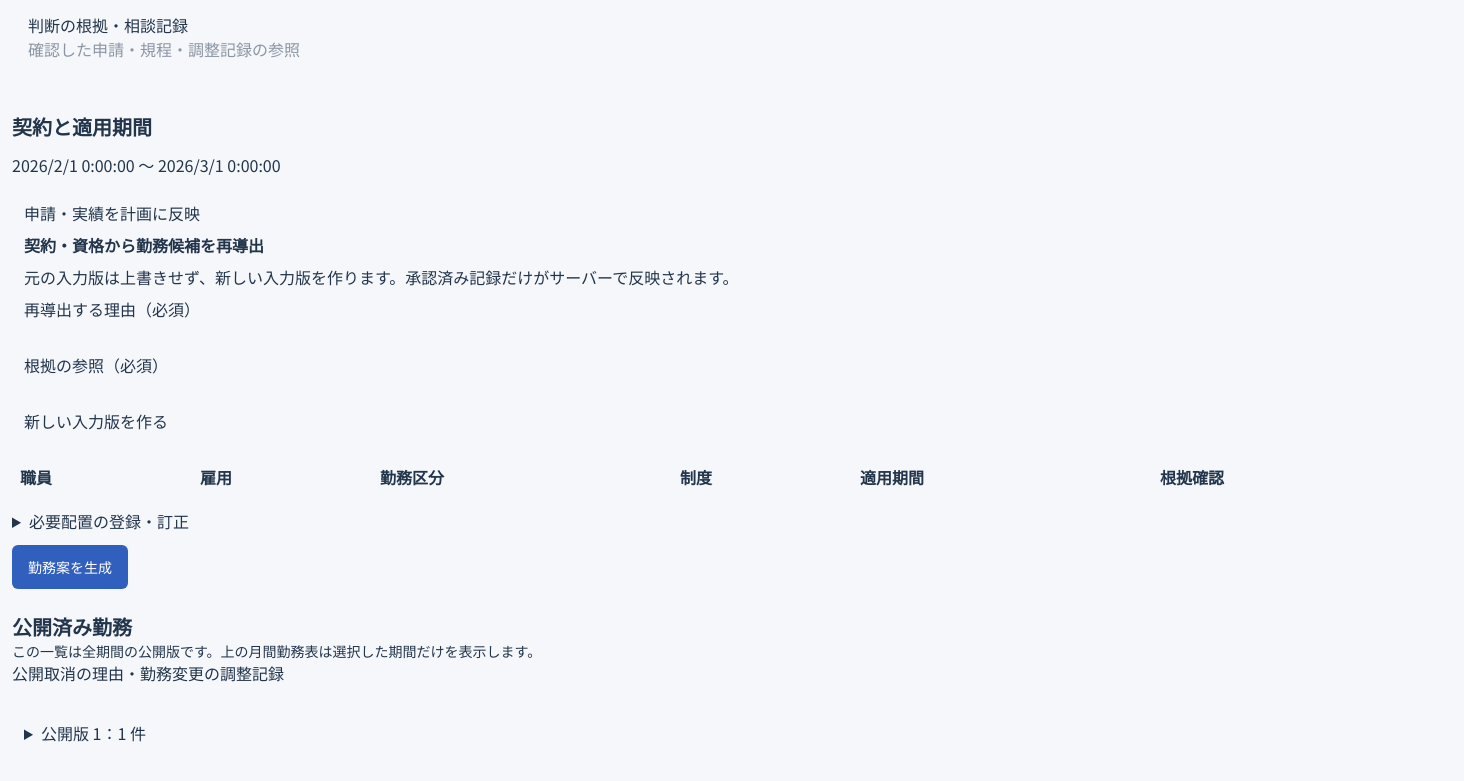
it: draft keeps another period fixed and marks a reused candidate ID as added
(page scrolled)
Click the button "勤務案を生成": (70, 567) [12,545,128,589]
(page scrolled)
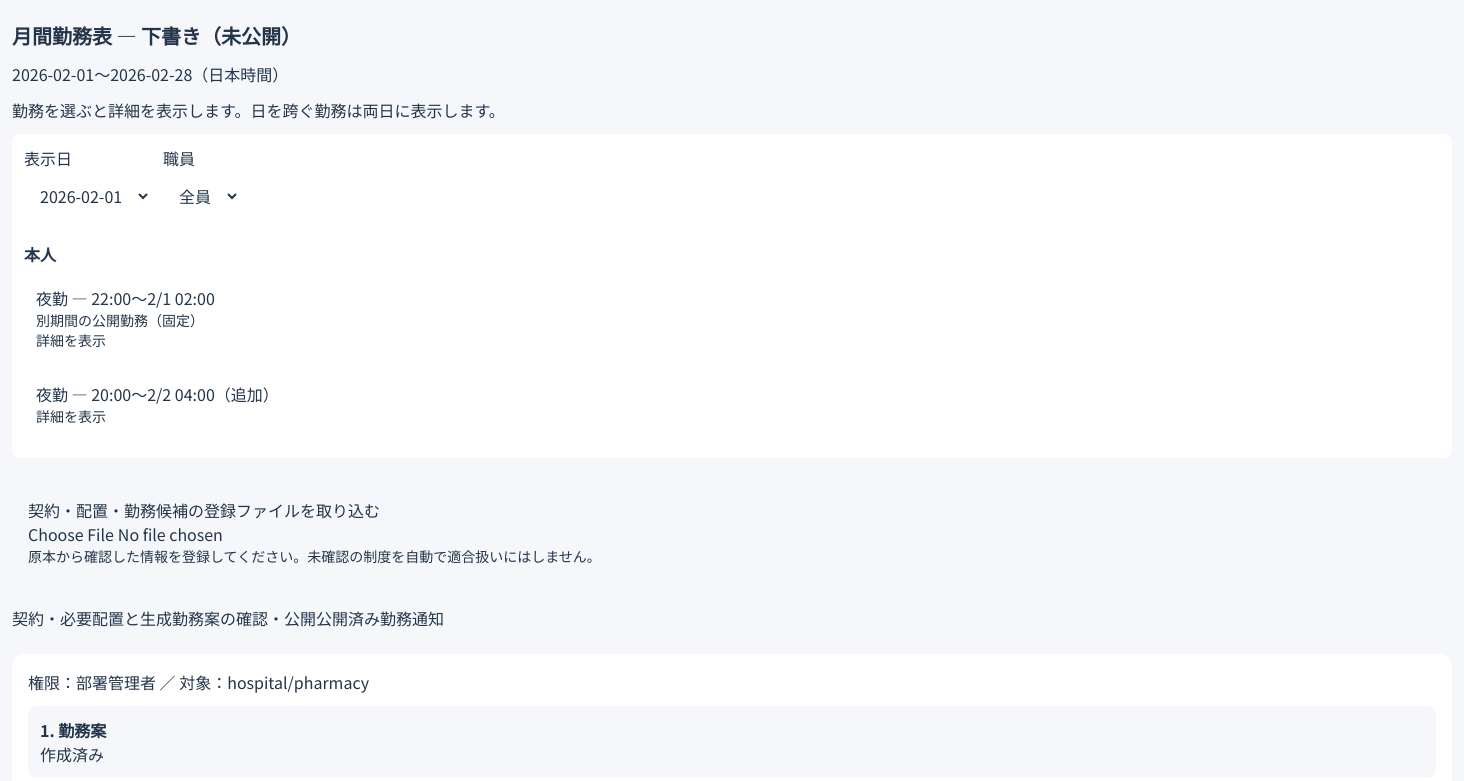
Now the heading "月間勤務表 — 下書き（未公開）" is shown, box [12,21,301,50]
Now the number of buttons "夜勤 — 22:00〜2/1 02:00 別期間の公開勤務（固定） 詳細を表示" is 2, box [24,274,1440,362]; [24,370,1440,438]
Now the button "夜勤 — 20:00〜2/2 04:00（追加） 詳細を表示" is shown, box [24,370,1440,438]
